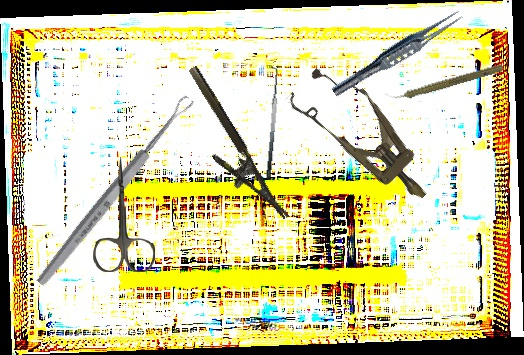Handpiece: (383, 59, 505, 107)
Iris Scissors: (91, 156, 155, 273)
Needle Holder: (167, 64, 290, 235)
Spatula Surgical: (256, 65, 284, 180)
Speculum: (282, 55, 448, 220)
Surgical Spoon: (33, 93, 197, 289)
Tissue Forceps: (329, 4, 466, 103)
